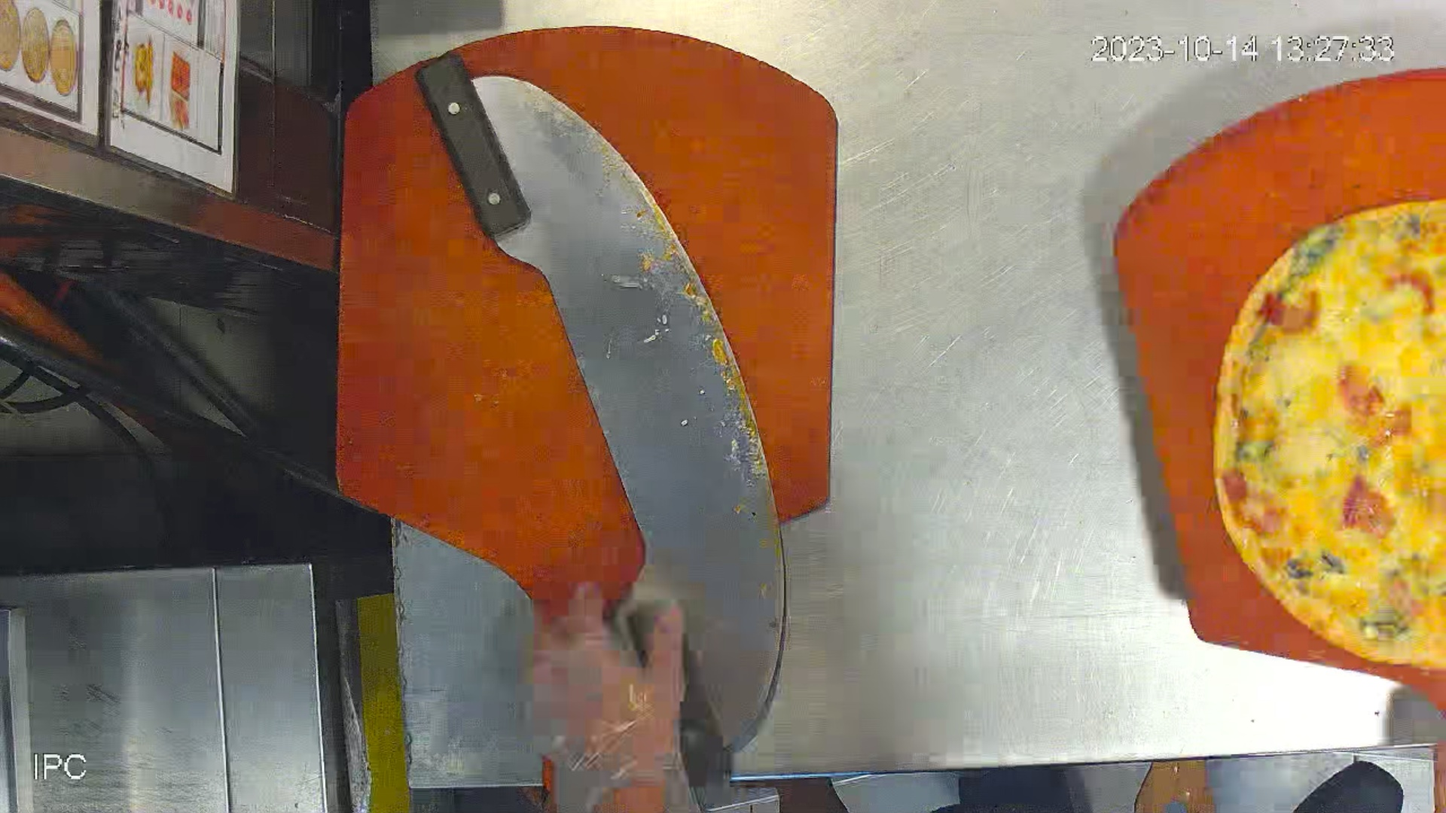bianca: (1214, 199, 1445, 674)
